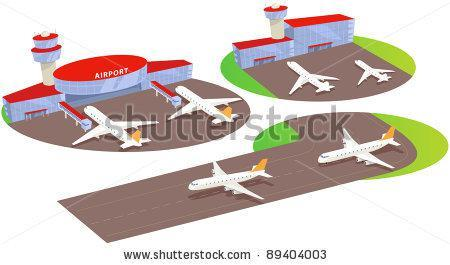aeroplane: (180, 155, 274, 210), (60, 100, 159, 152), (315, 125, 402, 181), (164, 83, 244, 131), (277, 55, 340, 98), (349, 57, 393, 89)
